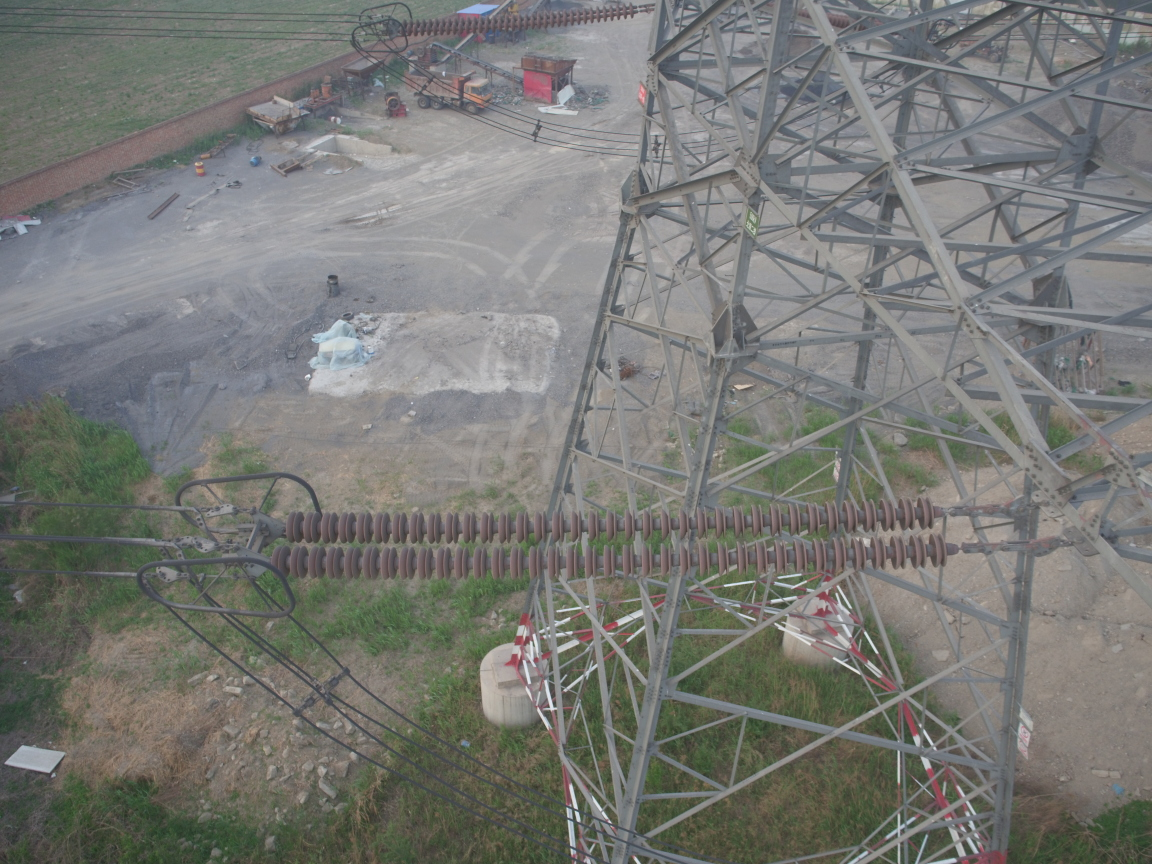insulator: (265, 493, 995, 588), (401, 2, 632, 38)
